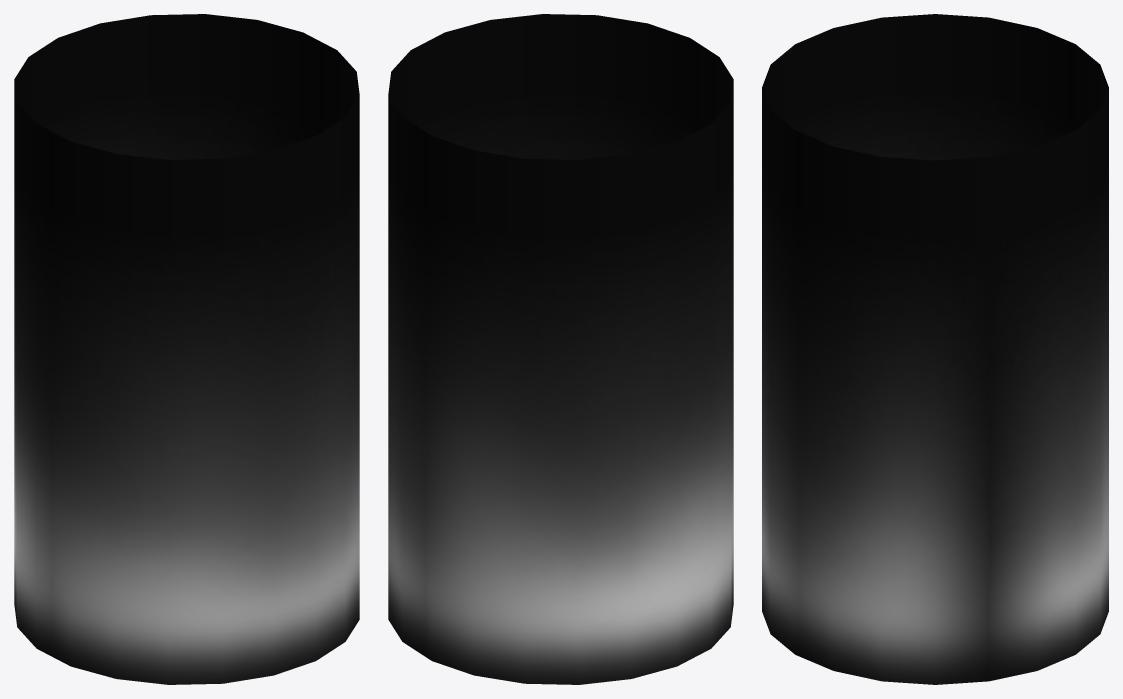
The model's file is BuildingUpgradeVFX.fbx.
3 renders of one model, left to right at view 1: azimuth 30°, elevation 25°; view 2: azimuth 150°, elevation 25°; view 3: azimuth 270°, elevation 25°, orthographic.
Parts seen in each view (by area): view 1: vfx_glow_cylinder; view 2: vfx_glow_cylinder; view 3: vfx_glow_cylinder.
Boxes of the visible parts, <box> form: vfx_glow_cylinder: <box>14,14,359,684</box>; vfx_glow_cylinder: <box>388,14,733,684</box>; vfx_glow_cylinder: <box>762,14,1108,684</box>.
Size of what is drawn, in the model's own units: 3.28 by 5.47 by 3.28.
Materials: 1 (1 with a texture image).
